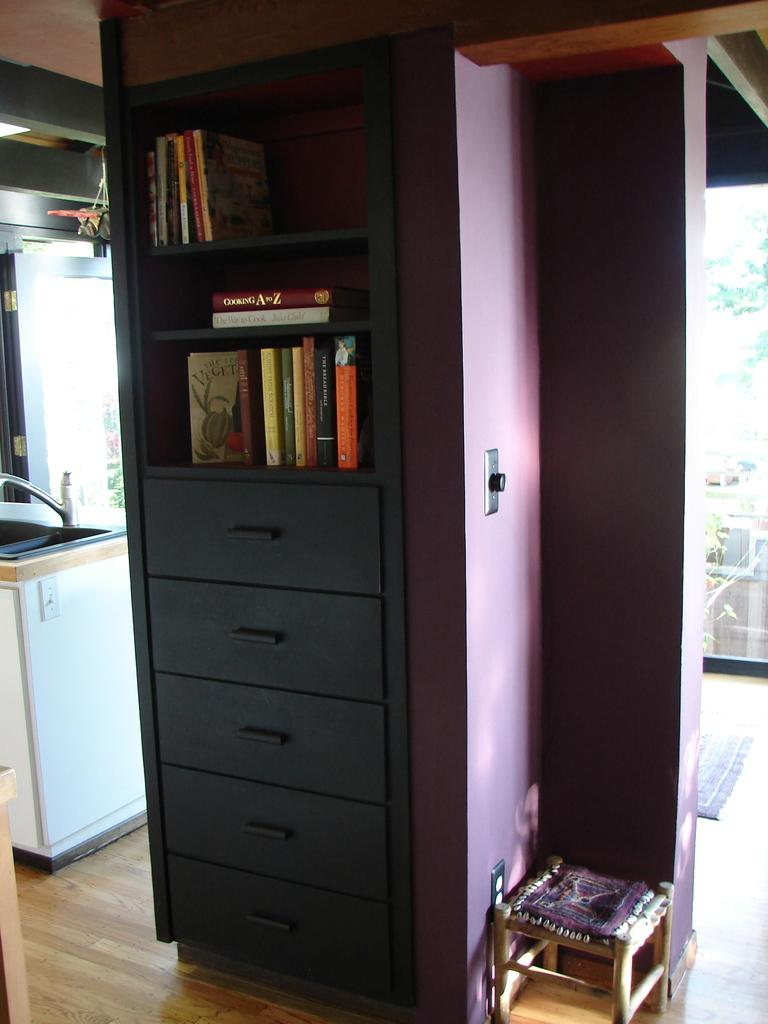cabinet_door: (173, 849, 390, 990), (156, 677, 396, 789), (147, 584, 386, 696), (146, 478, 380, 592), (165, 760, 388, 878)
handle: (246, 812, 296, 850), (241, 612, 282, 658), (229, 514, 281, 550), (246, 898, 298, 934), (237, 716, 286, 754)
